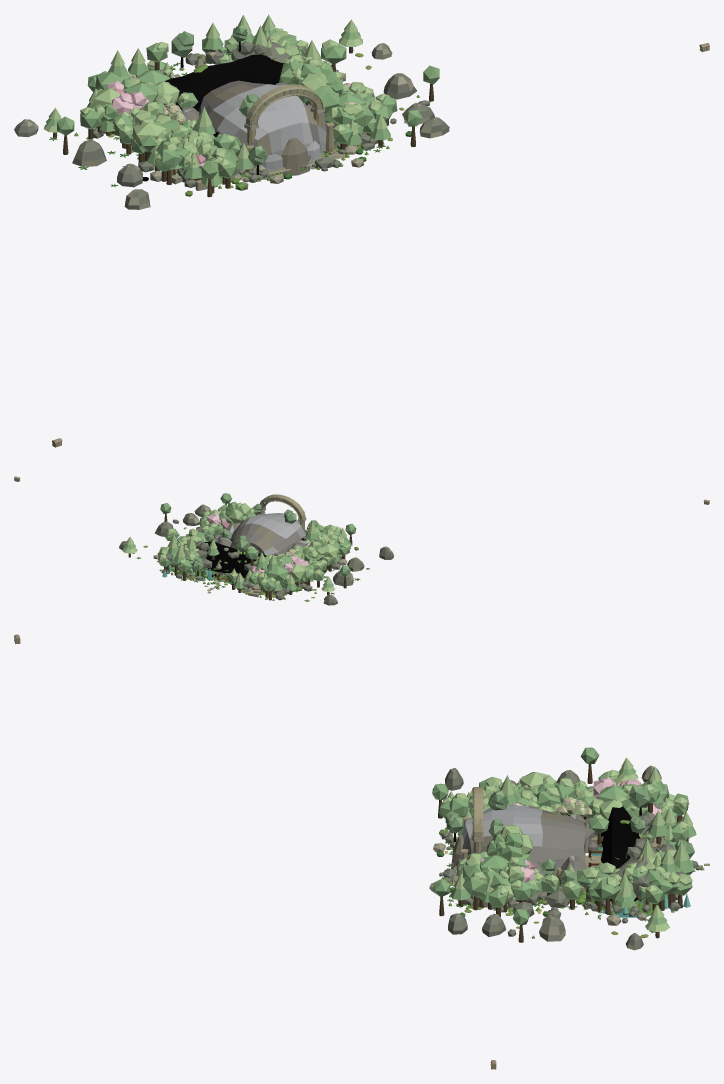
Rendered from verdant_valley_props.fbx.
The picture shows the model from 3 angles, top to bottom: view 1: azimuth 30°, elevation 25°; view 2: azimuth 150°, elevation 25°; view 3: azimuth 270°, elevation 25°; orthographic projection. The views are drawn at different scales.
Parts seen in each view (by area): view 1: chunk_cap_cave_mouth__PropsSolid, chunk_boss_sanctuary__PropsSolid, chunk_path_cliff_passage__PropsSolid, chunk_ancient_oak__tree_canopy_13; view 2: chunk_cap_cave_mouth__PropsSolid, chunk_boss_sanctuary__PropsSolid, chunk_path_cliff_passage__PropsSolid, chunk_ancient_oak__tree_canopy_13, chunk_crystal_spring_gate__PropsSolid, chunk_windward_ridge_gate__PropsSolid; view 3: chunk_cap_cave_mouth__PropsSolid, chunk_boss_sanctuary__PropsSolid, chunk_path_cliff_passage__PropsSolid, chunk_ancient_oak__tree_canopy_13.
Boxes of the visible parts, x1,y1,x2,y2 form: chunk_cap_cave_mouth__PropsSolid: (179,80,333,179); chunk_boss_sanctuary__PropsSolid: (14,43,449,209); chunk_path_cliff_passage__PropsSolid: (154,41,340,177); chunk_ancient_oak__tree_canopy_13: (297,69,343,113); chunk_cap_cave_mouth__PropsSolid: (215,513,306,591); chunk_boss_sanctuary__PropsSolid: (119,494,393,605); chunk_path_cliff_passage__PropsSolid: (192,525,313,587); chunk_ancient_oak__tree_canopy_13: (225,501,254,523); chunk_crystal_spring_gate__PropsSolid: (161,565,293,594); chunk_windward_ridge_gate__PropsSolid: (166,554,263,570); chunk_cap_cave_mouth__PropsSolid: (451,804,603,905); chunk_boss_sanctuary__PropsSolid: (438,764,709,950); chunk_path_cliff_passage__PropsSolid: (439,802,701,901); chunk_ancient_oak__tree_canopy_13: (487,824,532,860).
Bounding box in the file's own units: 841 × 84.88 × 577.
